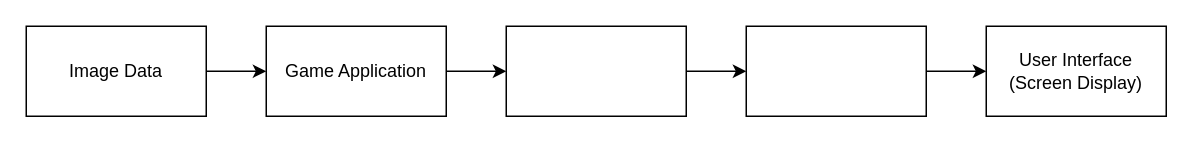
Image size: 1193x143. Some labels were removed from this diagram. The box of each missing label's shape, as (x1, y1, x2, y2) in pixels:
Computer-Vision Processing: (505, 25, 686, 116)
Game Statistics (Dart position on board if it hit): (745, 25, 926, 116)
